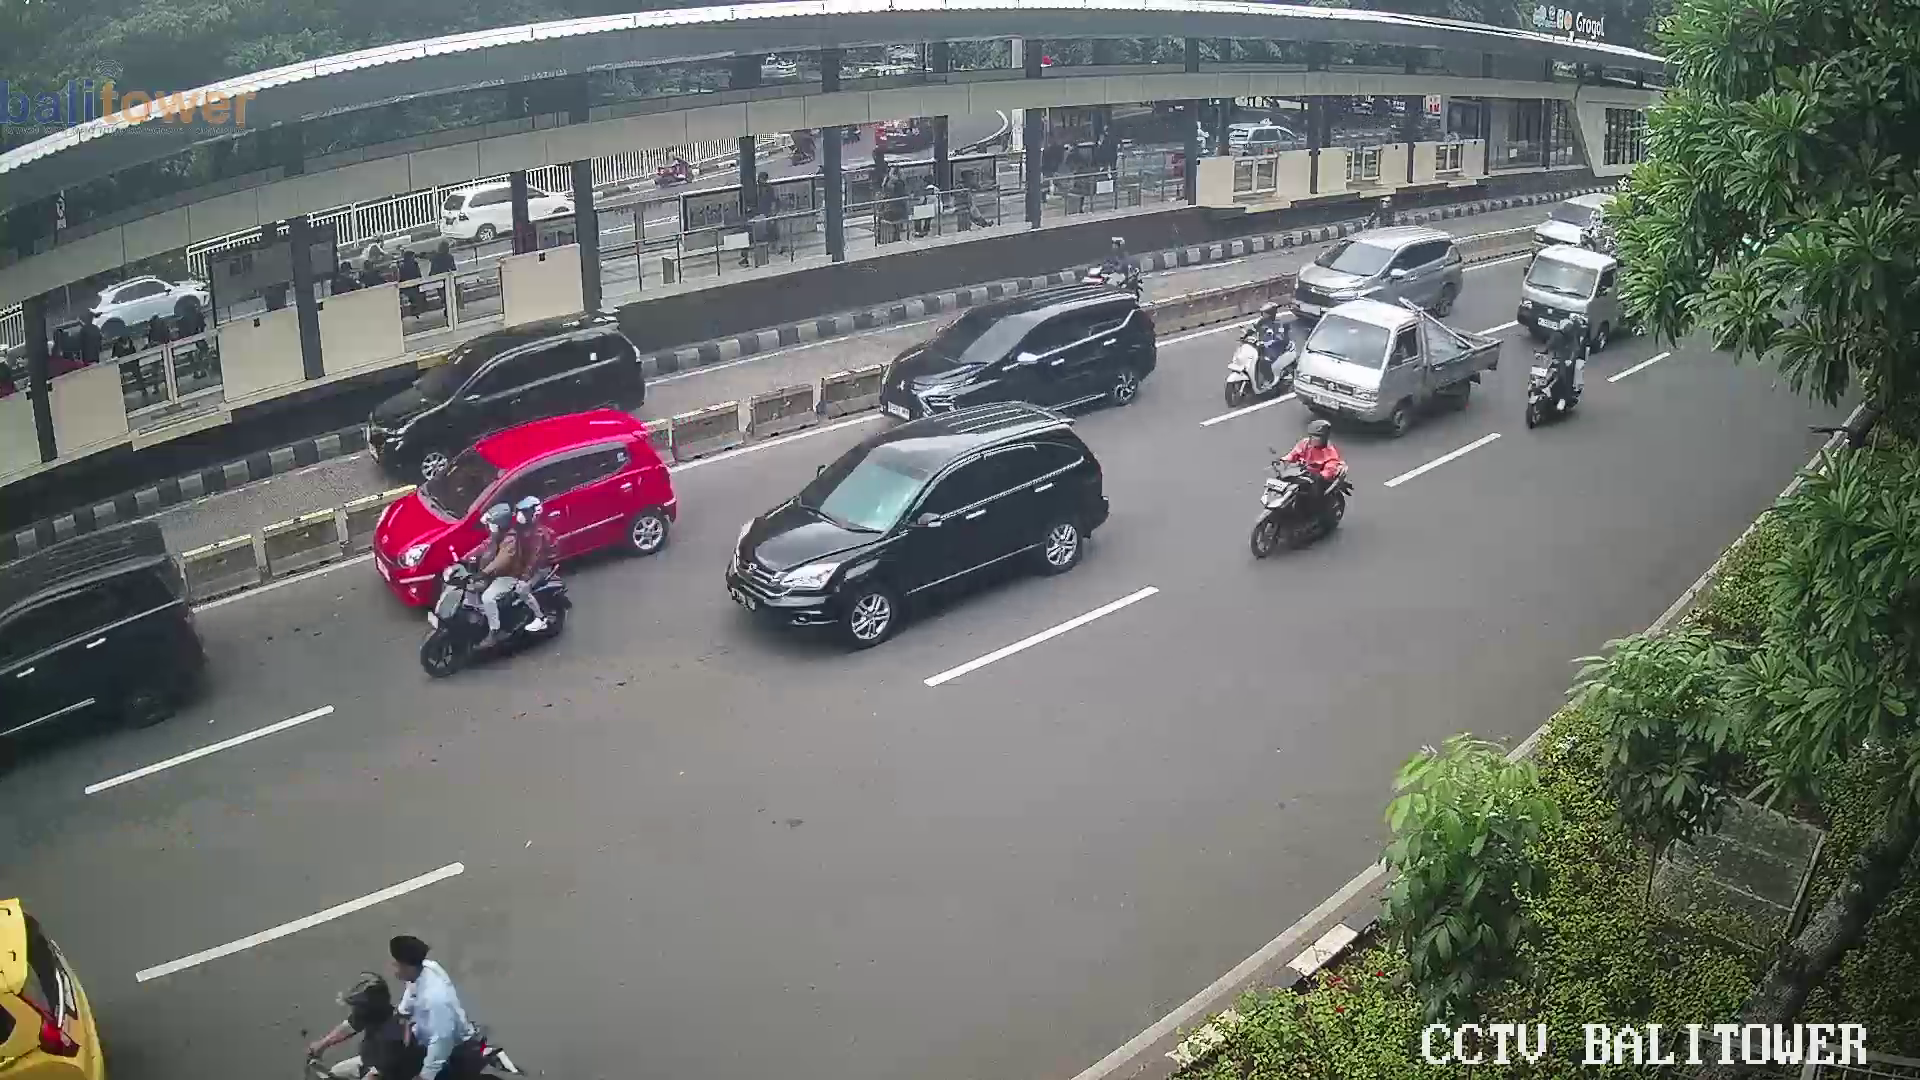half-face helmet: (327, 973, 396, 1039), (514, 494, 555, 531), (478, 498, 515, 537), (1304, 412, 1337, 451), (1553, 318, 1582, 353), (1257, 300, 1282, 329)
no helmet: (378, 924, 455, 996)
